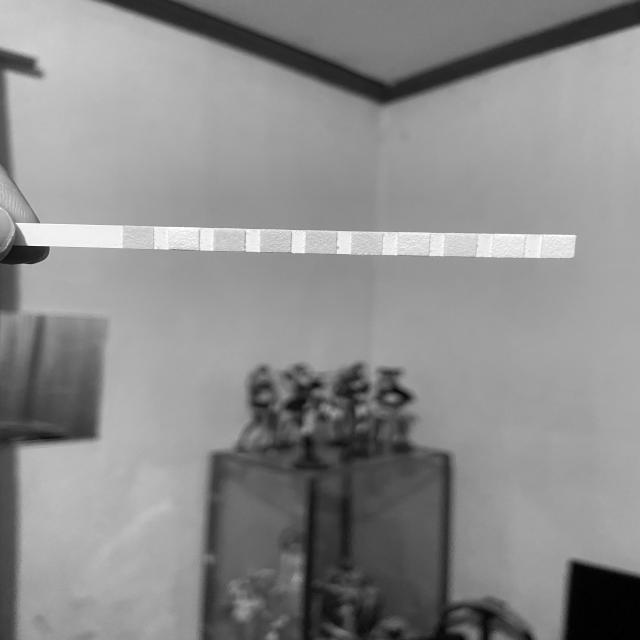Bilirubin: (168, 228, 199, 250)
Blood: (306, 230, 336, 253)
Glucose: (123, 227, 153, 249)
Ketone: (214, 230, 245, 252)
Leukocytes: (543, 235, 573, 258)
Nitrite: (494, 234, 524, 257)
Protein: (399, 232, 429, 256)
SpGravity: (260, 230, 290, 253)
Urobilinogen: (445, 234, 476, 256)
background: (0, 0, 640, 640)
pH: (352, 232, 382, 255)
strip: (20, 224, 576, 259)
